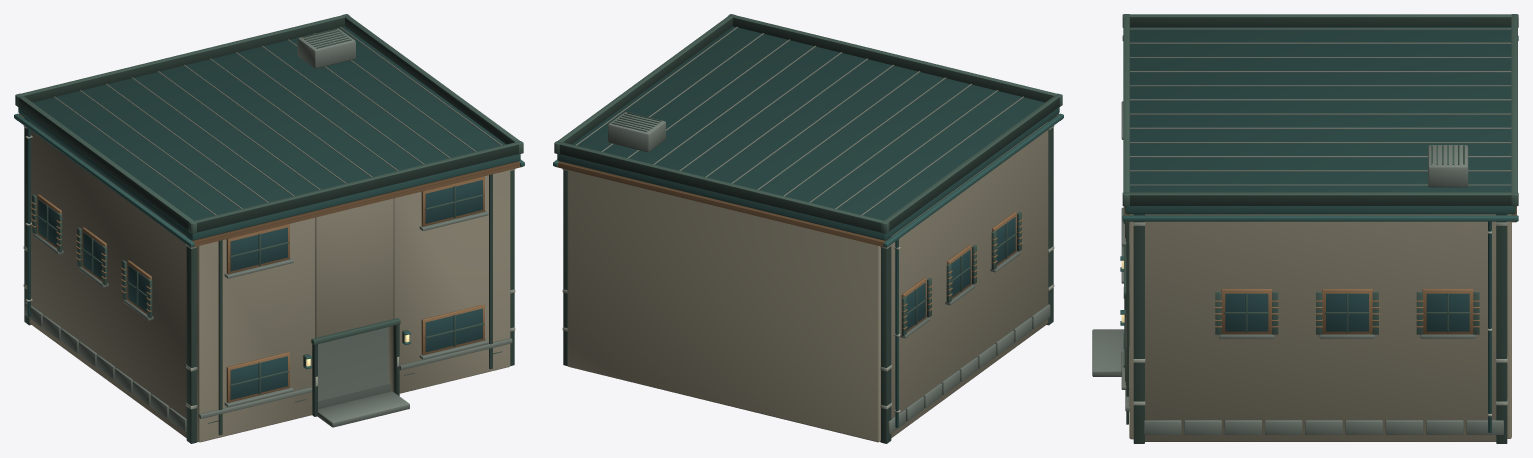
The model's file is kf-archive.glb.
3 renders of one model, left to right at view 1: azimuth 30°, elevation 25°; view 2: azimuth 150°, elevation 25°; view 3: azimuth 270°, elevation 25°, orthographic. The views are drawn at different scales.
Visible parts, largest first — view 1: Shell Painted plaster, Roof Roof metal, RoofDetail Timber trim, Shell Foundation, Shell Timber trim, Shell Window glass, Shell Warm wood, RoofDetail Brushed hardware, Shell Roof metal, RoofDetail Foundation; view 2: Shell Painted plaster, Roof Roof metal, RoofDetail Timber trim, Shell Timber trim, RoofDetail Brushed hardware, Shell Warm wood, Shell Foundation, Shell Roof metal, Shell Window glass, RoofDetail Foundation; view 3: Shell Painted plaster, Roof Roof metal, RoofDetail Timber trim, RoofDetail Brushed hardware, Shell Timber trim, Shell Foundation, Shell Window glass, Shell Roof metal, Shell Warm wood, RoofDetail Foundation.
Boxes of the visible parts, <box> form: Shell Painted plaster: <box>29,122,510,442</box>; Roof Roof metal: <box>18,26,520,240</box>; RoofDetail Timber trim: <box>15,14,523,233</box>; Shell Foundation: <box>24,210,512,441</box>; Shell Timber trim: <box>24,118,514,443</box>; Shell Window glass: <box>38,180,482,399</box>; Shell Warm wood: <box>17,114,522,402</box>; RoofDetail Brushed hardware: <box>54,26,502,215</box>; Shell Roof metal: <box>14,113,524,369</box>; RoofDetail Foundation: <box>297,28,355,68</box>; Shell Painted plaster: <box>567,122,1048,442</box>; Roof Roof metal: <box>557,26,1059,240</box>; RoofDetail Timber trim: <box>554,14,1062,233</box>; Shell Timber trim: <box>563,118,1053,443</box>; RoofDetail Brushed hardware: <box>575,26,1023,215</box>; Shell Warm wood: <box>555,114,1060,331</box>; Shell Foundation: <box>880,251,1050,441</box>; Shell Roof metal: <box>553,113,1063,427</box>; Shell Window glass: <box>906,217,1015,329</box>; RoofDetail Foundation: <box>608,112,665,152</box>; Shell Painted plaster: <box>1129,214,1511,441</box>; Roof Roof metal: <box>1125,27,1515,214</box>; RoofDetail Timber trim: <box>1122,14,1518,206</box>; RoofDetail Brushed hardware: <box>1130,28,1511,185</box>; Shell Timber trim: <box>1123,206,1507,443</box>; Shell Foundation: <box>1092,101,1503,434</box>; Shell Window glass: <box>1125,222,1469,381</box>; Shell Roof metal: <box>1120,35,1518,432</box>; Shell Warm wood: <box>1124,206,1516,385</box>; RoofDetail Foundation: <box>1428,145,1468,187</box>.
Size of the model in its own units: 12.88 by 8.71 by 12.7.
